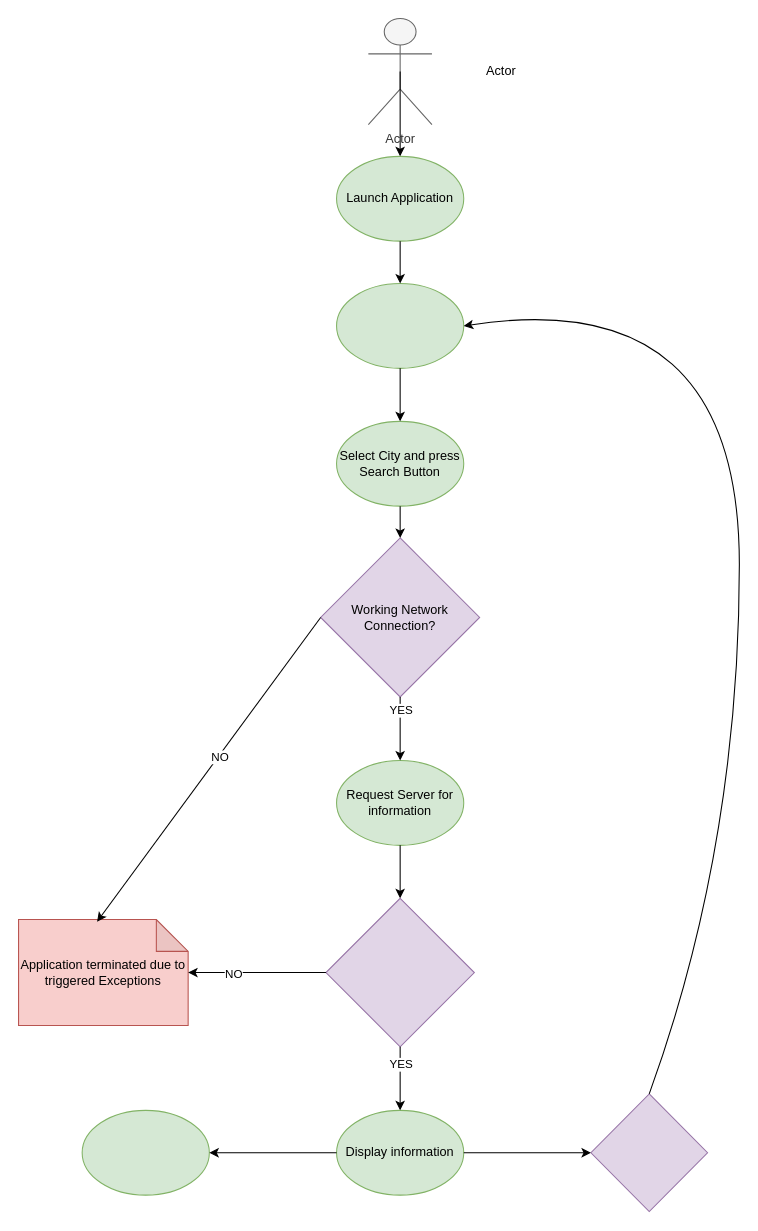
Some shapes in this 758 by 1231 pixel diagram are drawn without their labels. Each missing label, with the box of its shape:
Close Application: (81, 1109, 209, 1195)
Pick another location: (590, 1093, 708, 1212)
Select Country Code: (335, 282, 464, 368)
Server response OK?: (325, 897, 474, 1047)
